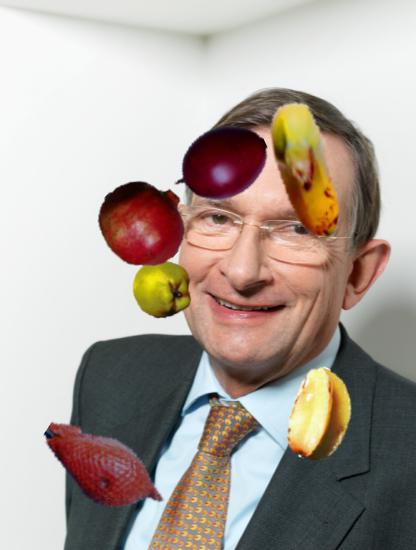Banana: (234, 100, 377, 243)
Carambula: (274, 369, 368, 463)
Pomegranate: (98, 177, 189, 268)
Quince: (132, 260, 192, 320)
Salak: (34, 402, 171, 539)
Tamarillo: (170, 114, 270, 214)
